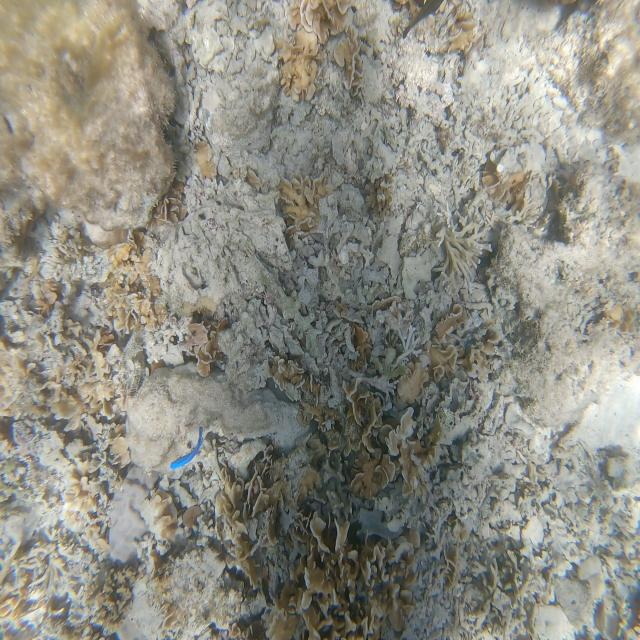rurisuzumedai: (170, 426, 203, 470)
